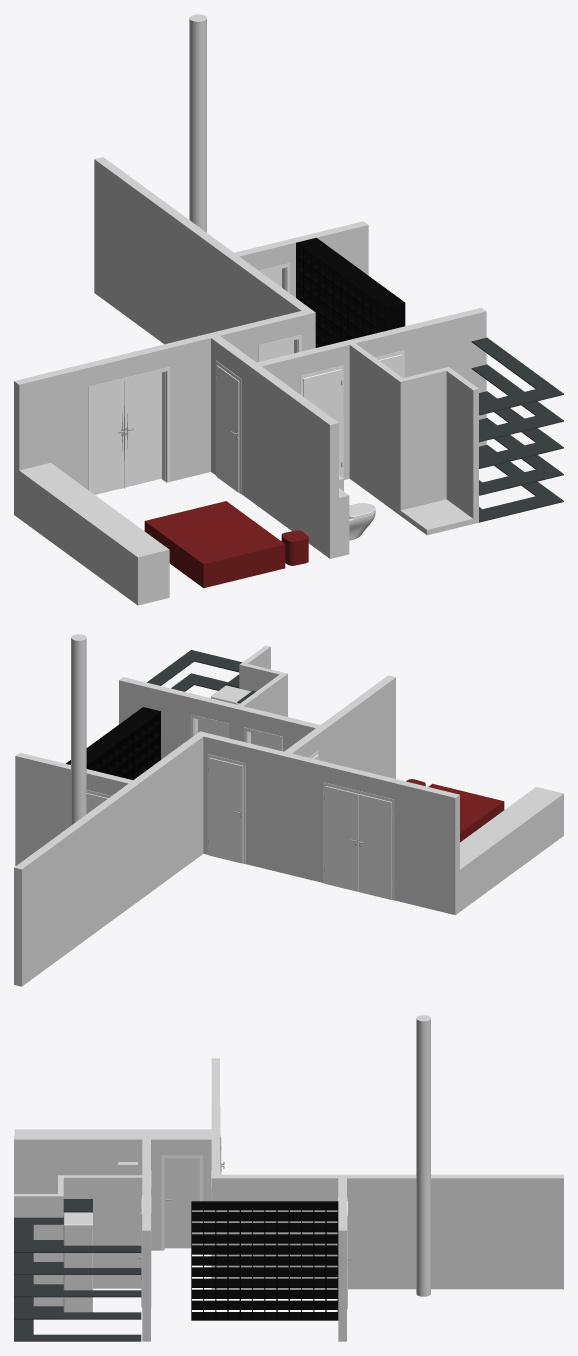
3 views of the same model, one above another, from view 1: azimuth 30°, elevation 25°; view 2: azimuth 150°, elevation 25°; view 3: azimuth 270°, elevation 25° (orthographic). The views are drawn at different scales.
Parts seen in each view (by area): view 1: _Wand.014, _Wand.013, _Wand.019, Curve.025, _Wand.012, _Wand.016, Curve.026, Curve.031, _Wand.017, Door.018, _KellerRegal.007, _Wand.018 (+9 smaller); view 2: _Wand.014, _Wand.013, Curve.025, _Wand.019, _Wand.012, _Wand.015, Door.015, Curve.031, Door.019, Door.018, WäscheRohr.001, Curve.026 (+7 smaller); view 3: _Wand.014, Curve.031, _Wand.019, _Wand.016, _KellerRegal.006, WäscheRohr.001, KS+TK.001, _KellerRegal.007, _Wand.018, _Wand.012, _Wand.015, _Wand.013 (+5 smaller).
Boxes of the visible parts, left/top/right/bottom form: _Wand.014: left=94, top=157, right=309, bottom=344; _Wand.013: left=14, top=308, right=315, bottom=517; _Wand.019: left=211, top=336, right=338, bottom=558; Curve.025: left=18, top=463, right=169, bottom=605; _Wand.012: left=257, top=307, right=486, bottom=479; _Wand.016: left=349, top=343, right=406, bottom=515; Curve.026: left=144, top=501, right=285, bottom=588; Curve.031: left=296, top=237, right=405, bottom=347; _Wand.017: left=403, top=367, right=451, bottom=508; Door.018: left=121, top=367, right=169, bottom=488; _KellerRegal.007: left=483, top=385, right=563, bottom=518; _Wand.018: left=446, top=369, right=478, bottom=523; _Wand.014: left=14, top=734, right=203, bottom=986; _Wand.013: left=196, top=731, right=459, bottom=915; Curve.025: left=459, top=787, right=563, bottom=911; _Wand.019: left=283, top=675, right=395, bottom=778; _Wand.012: left=119, top=677, right=319, bottom=759; _Wand.015: left=15, top=752, right=132, bottom=866; Door.015: left=207, top=754, right=245, bottom=864; Curve.031: left=66, top=707, right=160, bottom=779; Door.019: left=356, top=790, right=394, bottom=900; Door.018: left=323, top=782, right=361, bottom=891; WäscheRohr.001: left=71, top=634, right=86, bottom=825; Curve.026: left=428, top=783, right=504, bottom=842; _Wand.014: left=220, top=1174, right=563, bottom=1289; Curve.031: left=191, top=1201, right=338, bottom=1320; _Wand.019: left=14, top=1136, right=213, bottom=1250; _Wand.016: left=58, top=1175, right=142, bottom=1288; _KellerRegal.006: left=33, top=1245, right=141, bottom=1341; WäscheRohr.001: left=416, top=1015, right=430, bottom=1296; KS+TK.001: left=63, top=1212, right=92, bottom=1312; _KellerRegal.007: left=14, top=1224, right=33, bottom=1341; _Wand.018: left=14, top=1194, right=57, bottom=1306; _Wand.012: left=142, top=1139, right=150, bottom=1341; _Wand.015: left=338, top=1178, right=346, bottom=1341; _Wand.013: left=211, top=1058, right=219, bottom=1289.
Size of the model in its own units: 8.32 by 6.2 by 11.22.
